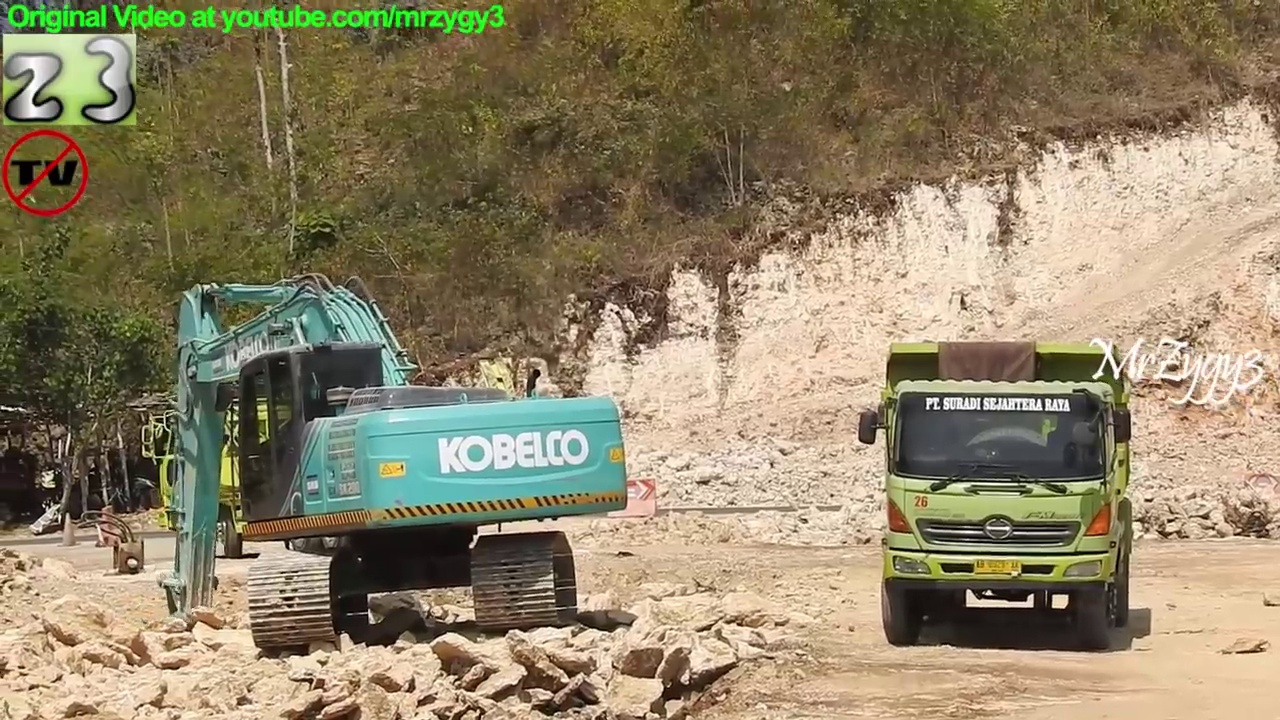excavator: (148, 265, 634, 667)
truck: (854, 334, 1143, 654), (133, 358, 553, 557)
